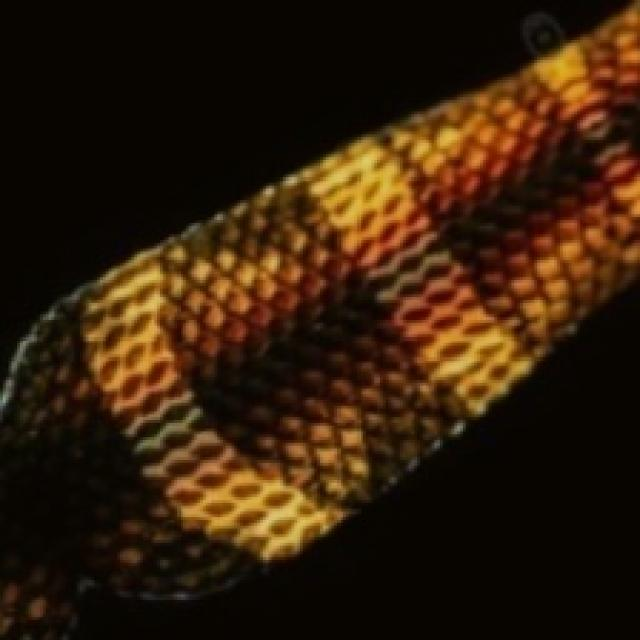king cobra: (0, 3, 637, 637), (11, 140, 134, 214), (60, 209, 149, 274)
